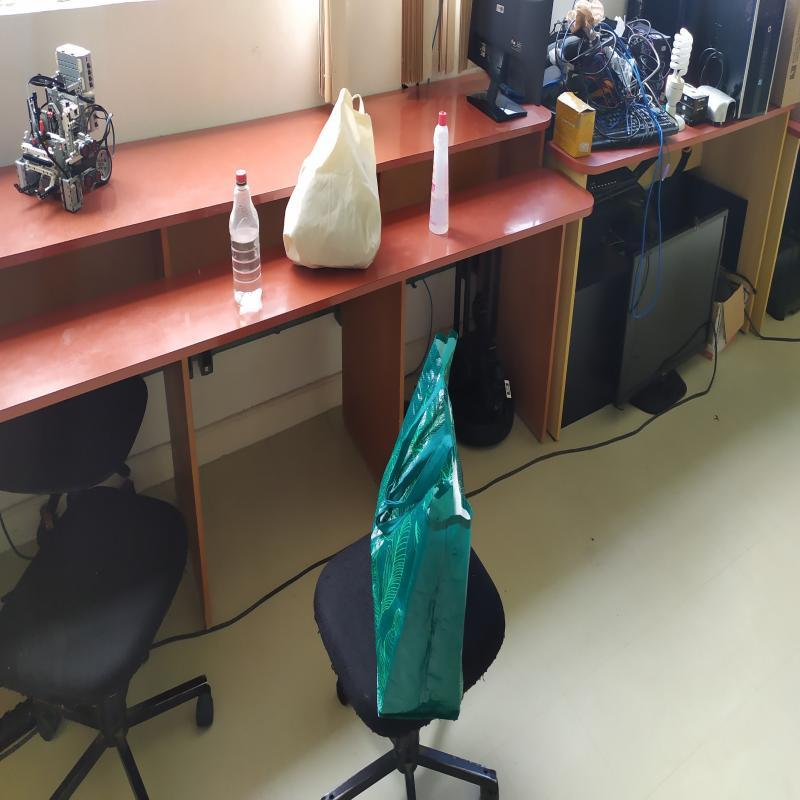Bag: (371, 328, 474, 730), (281, 88, 382, 281)
